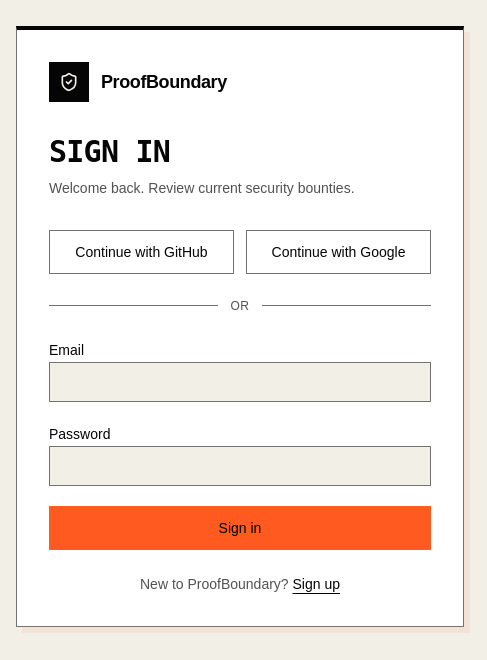
Test: AuthPage › preserves the idea return path when switching auth modes
The image size is (487, 660).
Step 1. Click the link "Sign up" → (316, 584), box [292, 576, 340, 592]
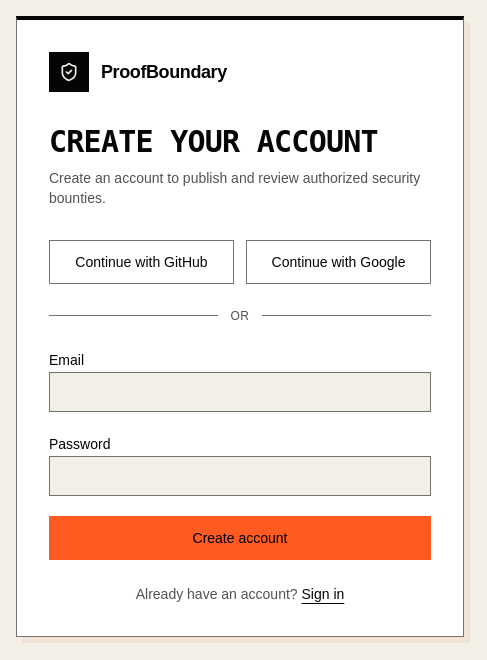
Expected: the heading "Create your account" is shown, [49, 124, 431, 160]
